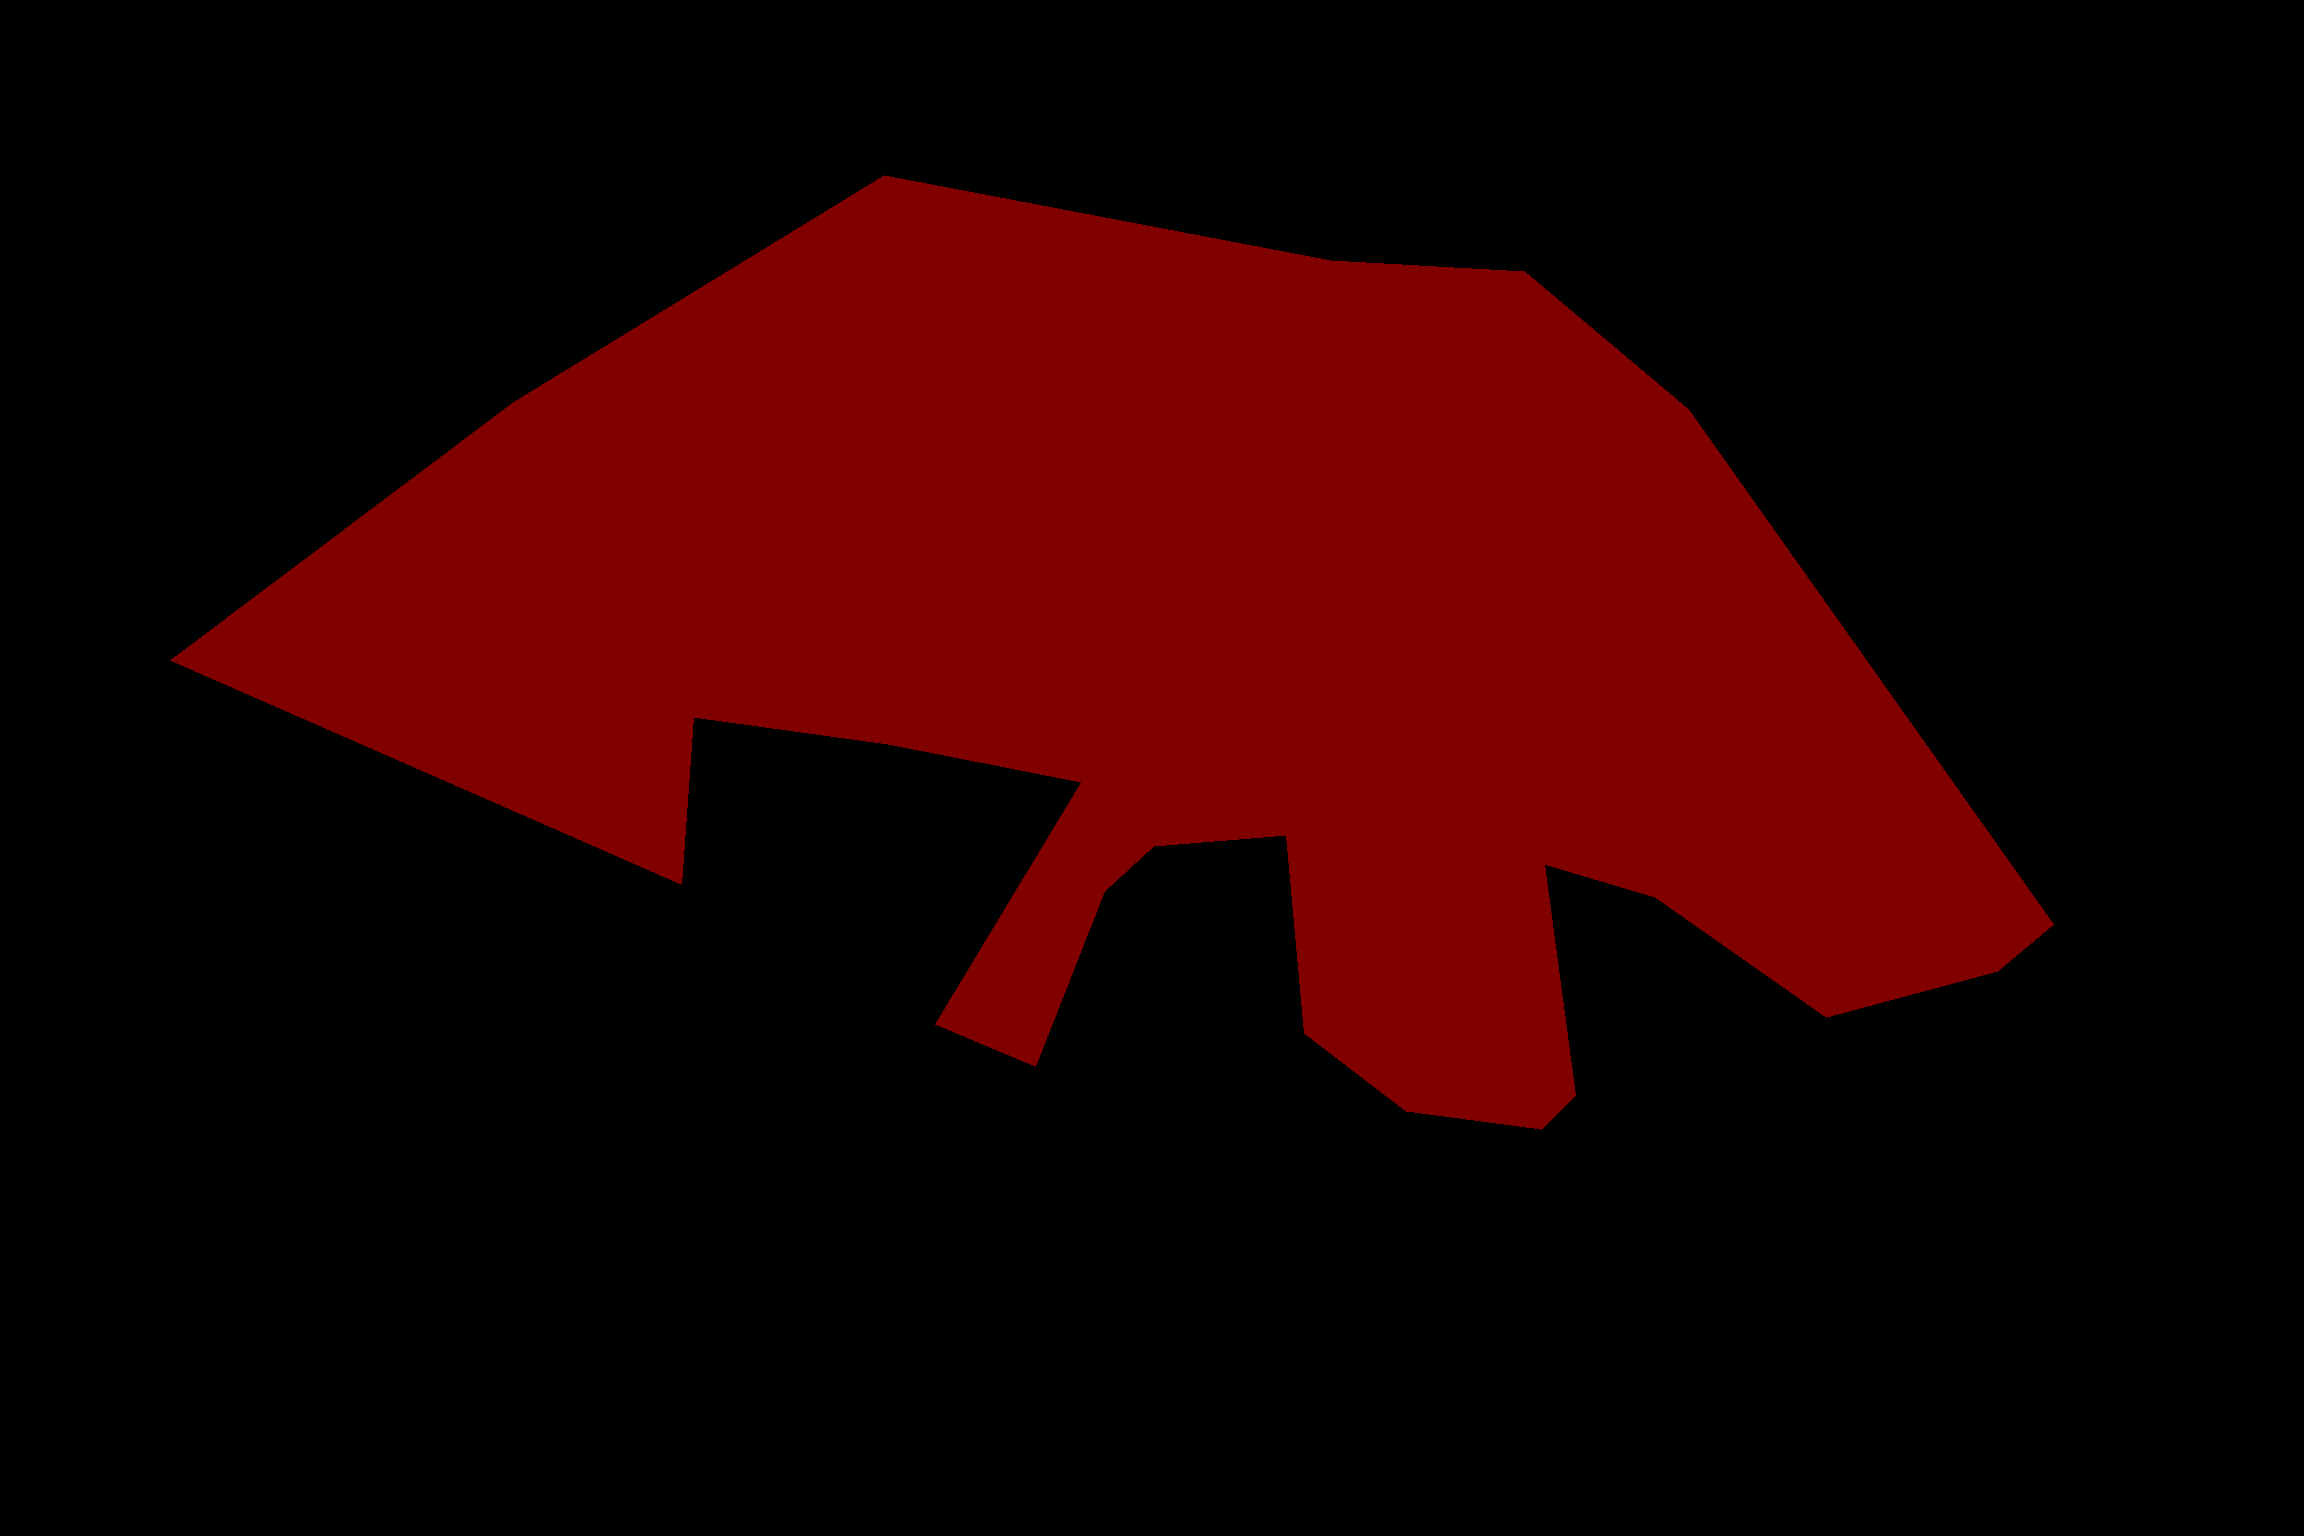fire: (170, 175, 2054, 1130)
